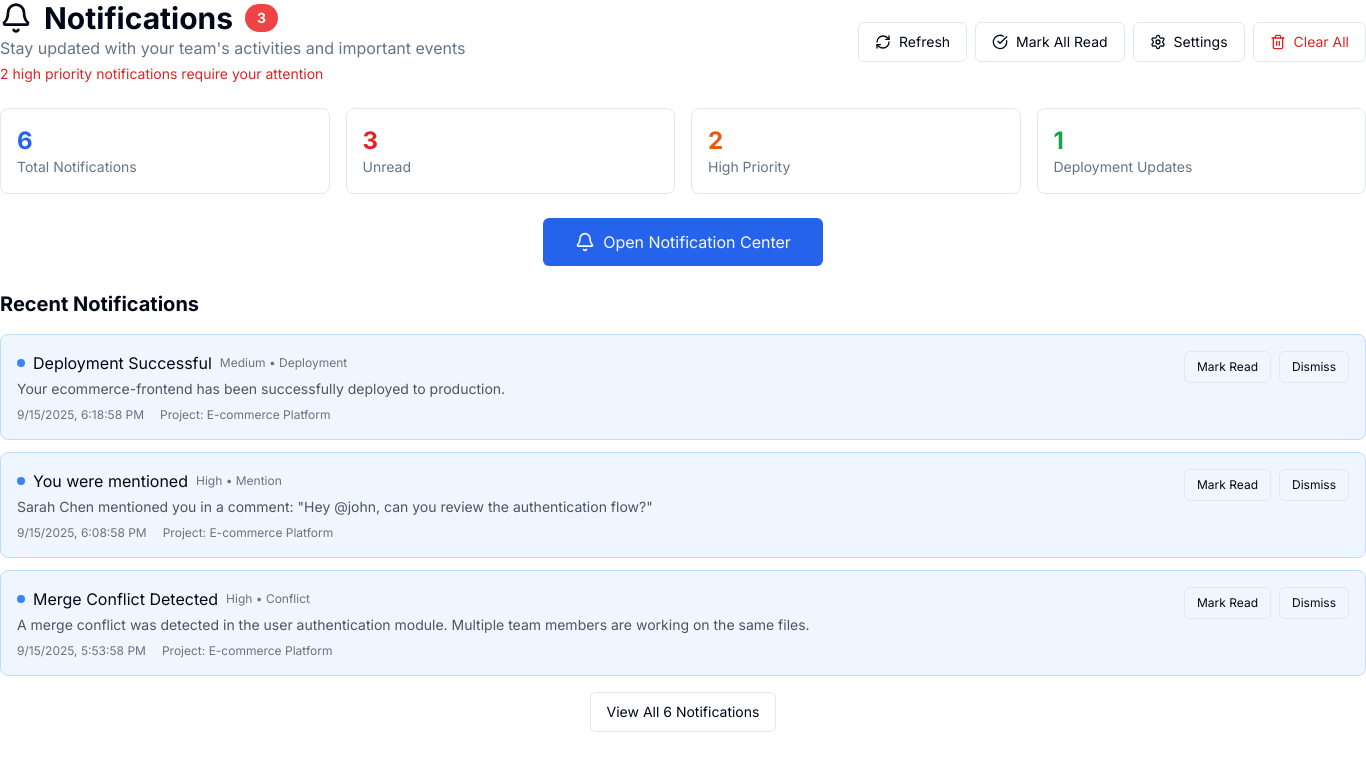
Test: Notifications Page › opens settings from empty state
The width and height of the screenshot is (1366, 768).
Click the button "Clear All": (1309, 42) [1253,22,1365,62]
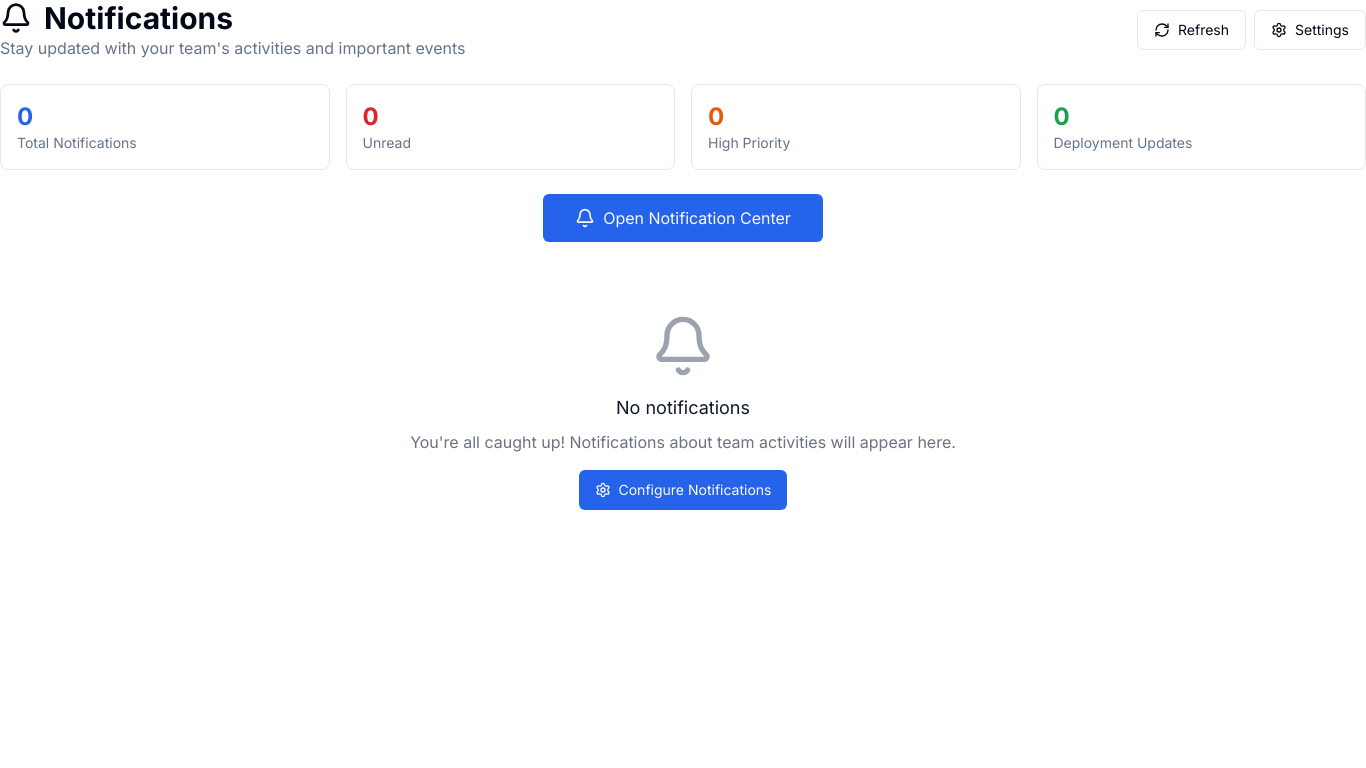
Click the button "Configure Notifications": (683, 490) [578,470,788,510]
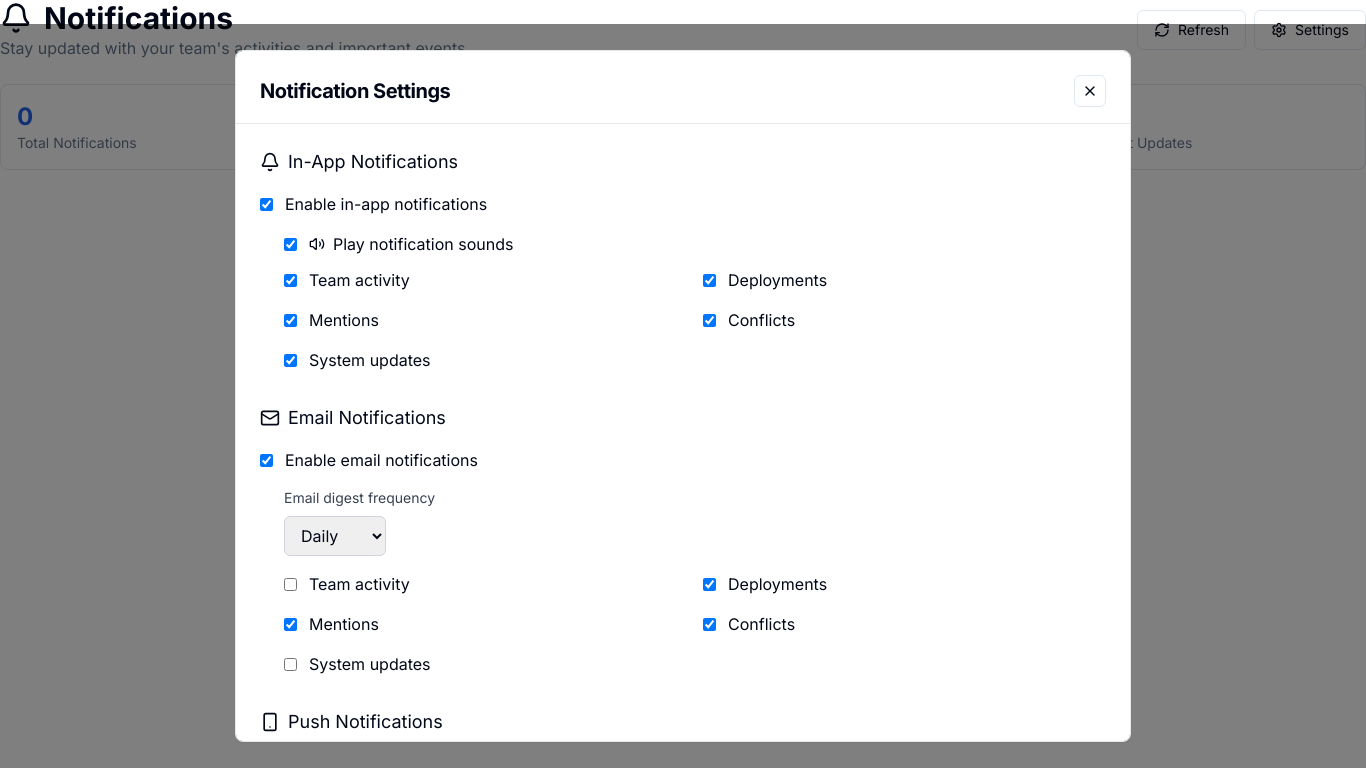
Check: the heading "Notification Settings" is shown, box [260,77,450,105]
